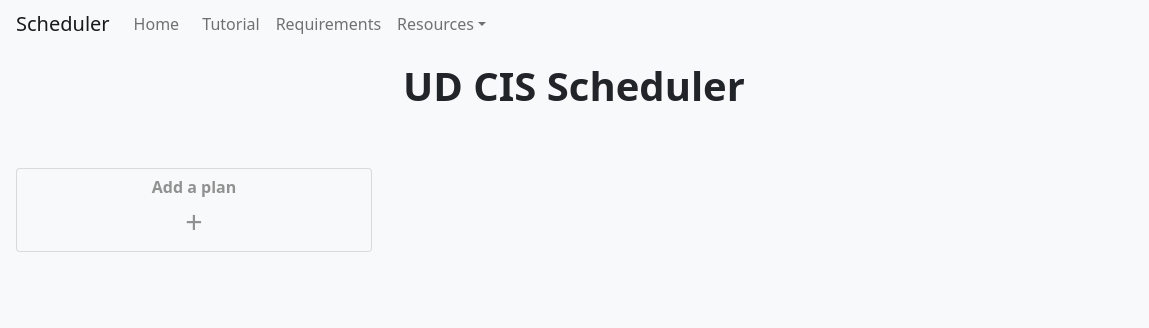
Test: Plan › Allows you to duplicate a plan
Click the button with test id "add-plan" at coordinates (194, 210), box [17,169,371,251]
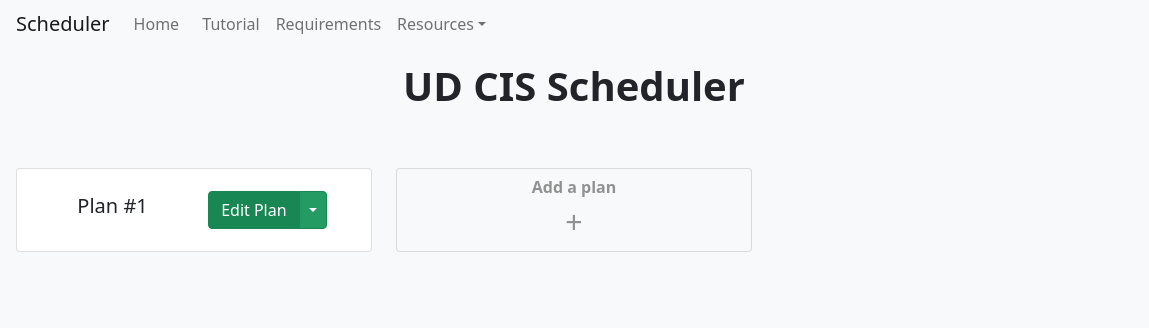
Click the button with test id "plan-toggle" at coordinates (313, 210), box [299,191,327,229]
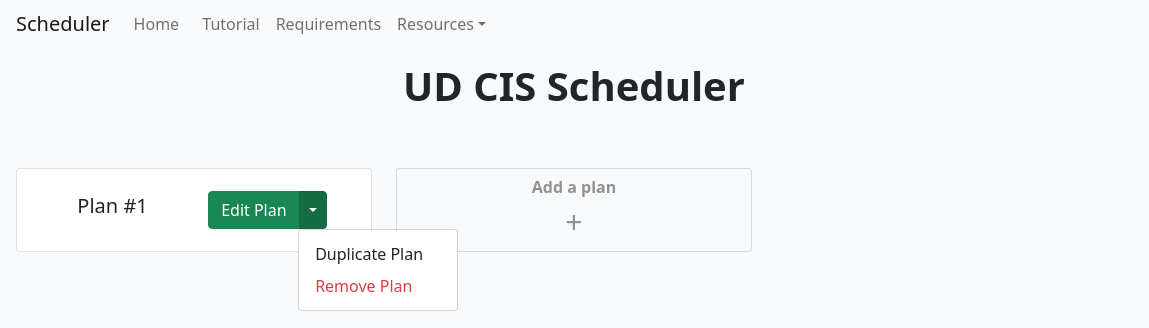
Result: the button with test id "copy-plan" is shown
Click the button with test id "copy-plan" at coordinates (369, 254), box [315,243,423,265]
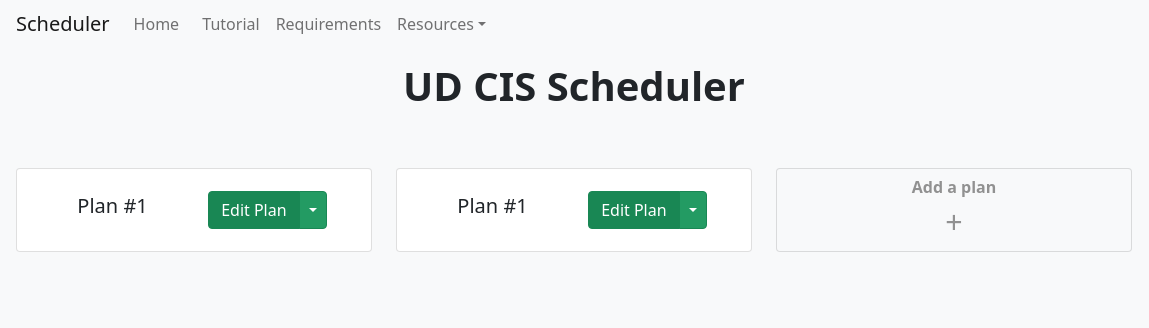
Result: the text "Plan #1" is shown 2 times at [77,194,148,218]; [457,194,528,218]
